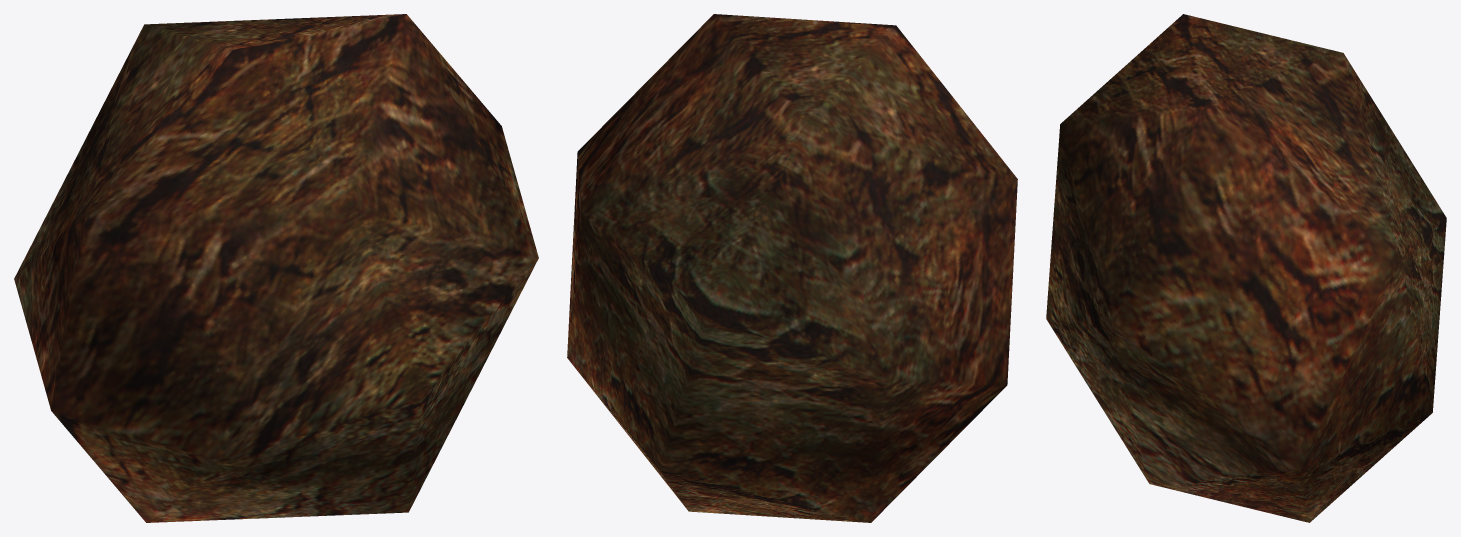
File: stone_07.obj
3 views of the same model, side by side, from view 1: azimuth 30°, elevation 25°; view 2: azimuth 150°, elevation 25°; view 3: azimuth 270°, elevation 25° (orthographic). The views are drawn at different scales.
Parts seen in each view (by area): view 1: (null); view 2: (null); view 3: (null).
Part boxes in pixels (x1,y1,x2,y2): (null): (14, 14, 538, 522); (null): (567, 14, 1017, 522); (null): (1046, 14, 1446, 522).
Size of the model in its own units: 1.88 by 2.03 by 1.66.
